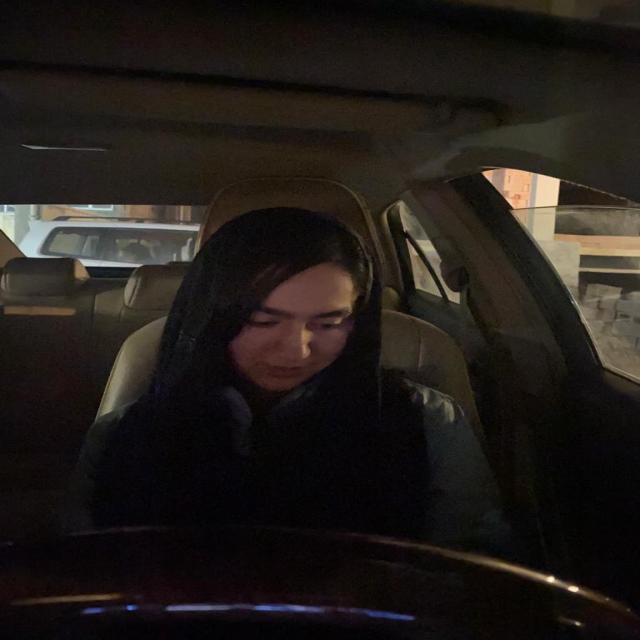person: (202, 216, 386, 412)
